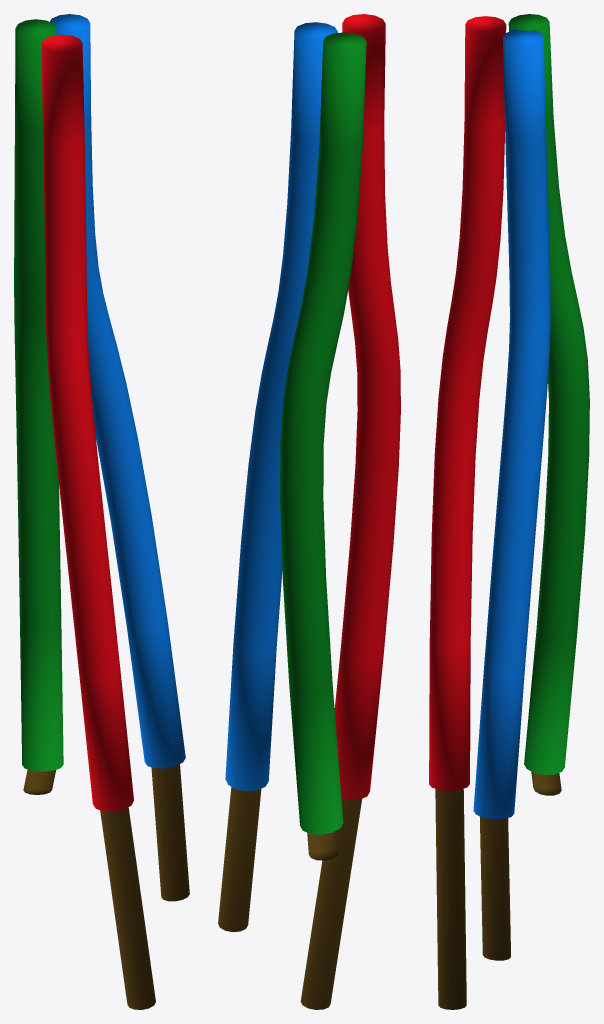
Rendered from cable tri court.glb.
The picture shows the model from 3 angles, left to right: view 1: azimuth 30°, elevation 25°; view 2: azimuth 150°, elevation 25°; view 3: azimuth 270°, elevation 25°; orthographic projection. The views are drawn at different scales.
Visible parts, largest first — view 1: BézierCurve.002; view 2: BézierCurve.002; view 3: BézierCurve.002.
Boxes of the visible parts, left/top/right/bottom form: BézierCurve.002: left=14, top=14, right=189, bottom=1009; BézierCurve.002: left=218, top=14, right=400, bottom=1009; BézierCurve.002: left=429, top=14, right=589, bottom=1009.
Size of the model in its own units: 0.2564 by 1.54 by 0.2357.
